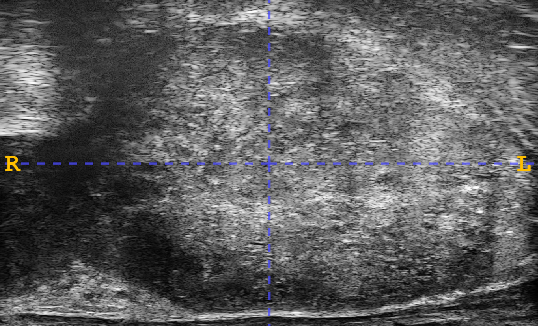calcifications: (431, 175, 515, 258)
